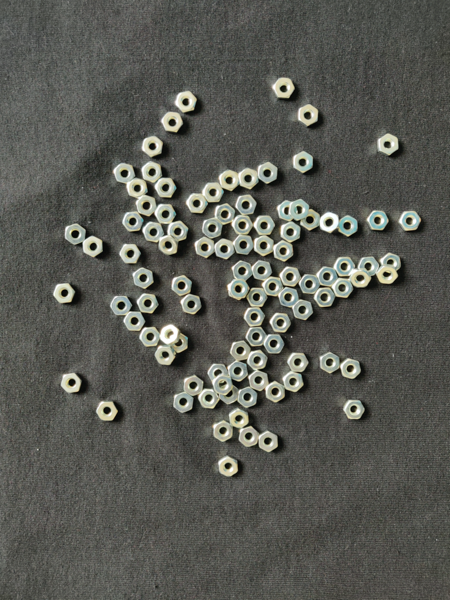nut: (174, 91, 198, 113), (377, 134, 399, 157), (272, 78, 296, 99), (155, 203, 177, 225), (65, 223, 86, 246), (316, 266, 339, 287), (298, 105, 319, 127), (293, 151, 314, 173), (142, 136, 163, 158), (141, 161, 162, 183), (114, 163, 136, 184), (289, 199, 310, 221), (215, 203, 236, 225), (254, 215, 276, 236), (160, 324, 181, 346), (239, 426, 260, 448), (186, 194, 209, 214), (154, 178, 177, 198), (122, 212, 145, 232), (110, 296, 133, 316), (343, 399, 366, 419), (127, 178, 148, 199), (136, 195, 157, 216), (143, 222, 164, 243), (273, 241, 294, 262), (195, 237, 216, 258), (281, 266, 302, 287), (293, 300, 314, 321), (133, 268, 154, 289), (61, 373, 82, 394), (341, 358, 362, 379), (162, 112, 184, 132), (220, 169, 240, 191), (167, 221, 189, 241), (159, 234, 179, 256), (399, 211, 421, 231), (339, 215, 359, 237), (320, 212, 340, 234), (301, 209, 321, 231), (278, 200, 298, 222), (231, 215, 253, 235), (215, 238, 235, 260), (83, 236, 103, 258), (314, 288, 336, 308), (262, 277, 284, 297), (54, 283, 76, 303), (137, 294, 159, 314), (96, 401, 118, 421), (320, 352, 340, 374), (283, 372, 305, 392), (198, 389, 220, 409), (219, 456, 239, 478), (376, 265, 399, 284), (239, 168, 259, 189), (203, 182, 224, 202), (236, 195, 257, 215), (203, 218, 223, 239), (120, 244, 141, 264), (381, 253, 402, 273), (333, 278, 354, 298), (279, 287, 299, 308), (270, 313, 291, 333), (140, 327, 161, 347), (230, 341, 251, 361), (266, 381, 286, 402), (228, 361, 248, 382), (249, 370, 269, 391), (238, 387, 258, 408), (213, 375, 233, 396), (184, 375, 204, 396), (174, 392, 194, 413), (229, 409, 250, 429), (214, 421, 234, 442), (259, 162, 278, 184), (367, 211, 389, 230), (233, 236, 255, 255), (358, 257, 380, 276), (350, 269, 372, 288), (299, 275, 321, 294), (228, 279, 250, 298), (246, 327, 268, 346), (124, 312, 146, 331), (208, 364, 230, 383), (253, 261, 273, 281), (172, 276, 192, 296), (247, 350, 267, 370), (219, 384, 239, 404), (334, 258, 355, 277), (233, 260, 252, 281), (264, 335, 285, 354), (181, 295, 202, 314), (155, 346, 176, 365), (288, 353, 309, 372), (259, 431, 278, 452), (282, 222, 301, 242), (255, 236, 274, 256), (247, 289, 268, 307), (244, 308, 265, 326), (171, 334, 188, 353)
